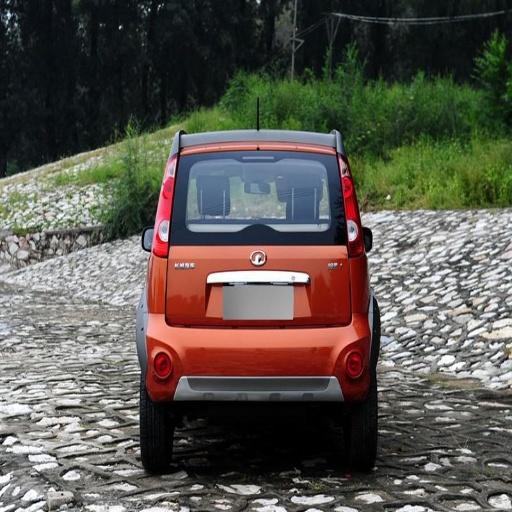back_bumper: (143, 313, 326, 401), (334, 285, 369, 371)
trunk: (152, 223, 352, 370)
